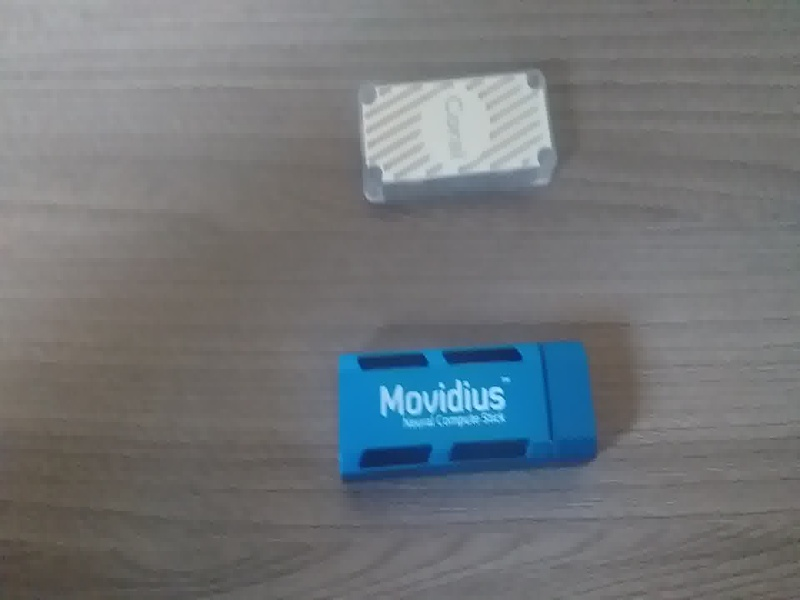coral: (352, 64, 568, 217)
movidius: (331, 326, 615, 490)
